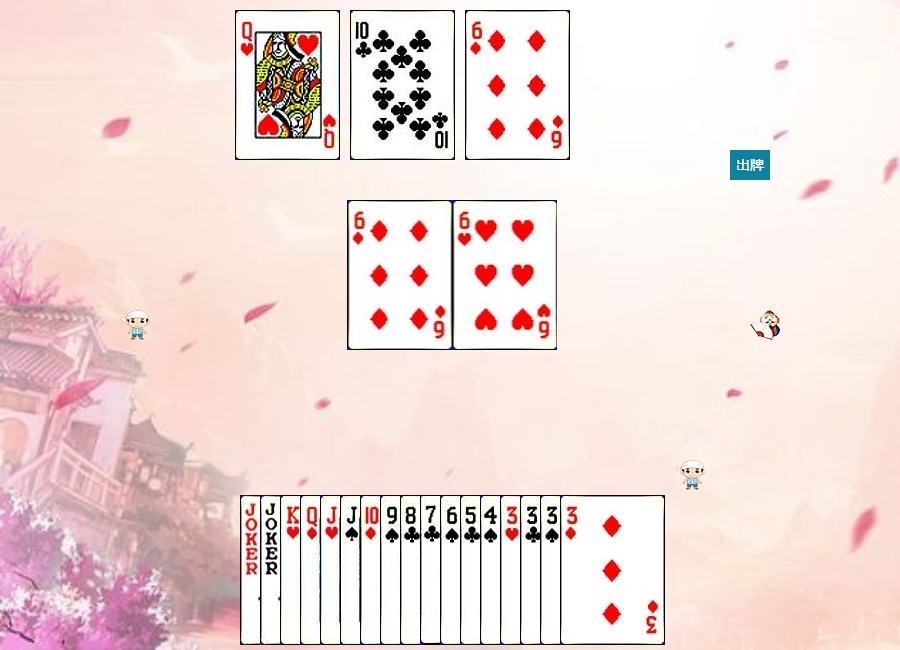10~1: (360, 495, 465, 645)
10~2: (350, 10, 455, 160)
11~3: (320, 495, 425, 645)
11~4: (340, 495, 445, 645)
12~1: (300, 495, 405, 645)
12~3: (235, 10, 340, 160)
13~3: (280, 495, 385, 645)
17~3: (260, 495, 365, 645)
18~4: (240, 495, 345, 645)
3~1: (560, 495, 665, 645)
3~2: (520, 495, 625, 645)
3~3: (500, 495, 605, 645)
3~4: (540, 495, 645, 645)
4~4: (480, 495, 585, 645)
5~2: (460, 495, 565, 645)
6~1: (465, 10, 570, 160), (348, 200, 453, 350)
6~3: (453, 200, 558, 350)
6~4: (440, 495, 545, 645)
7~2: (420, 495, 525, 645)
8~2: (400, 495, 505, 645)
9~4: (380, 495, 485, 645)
